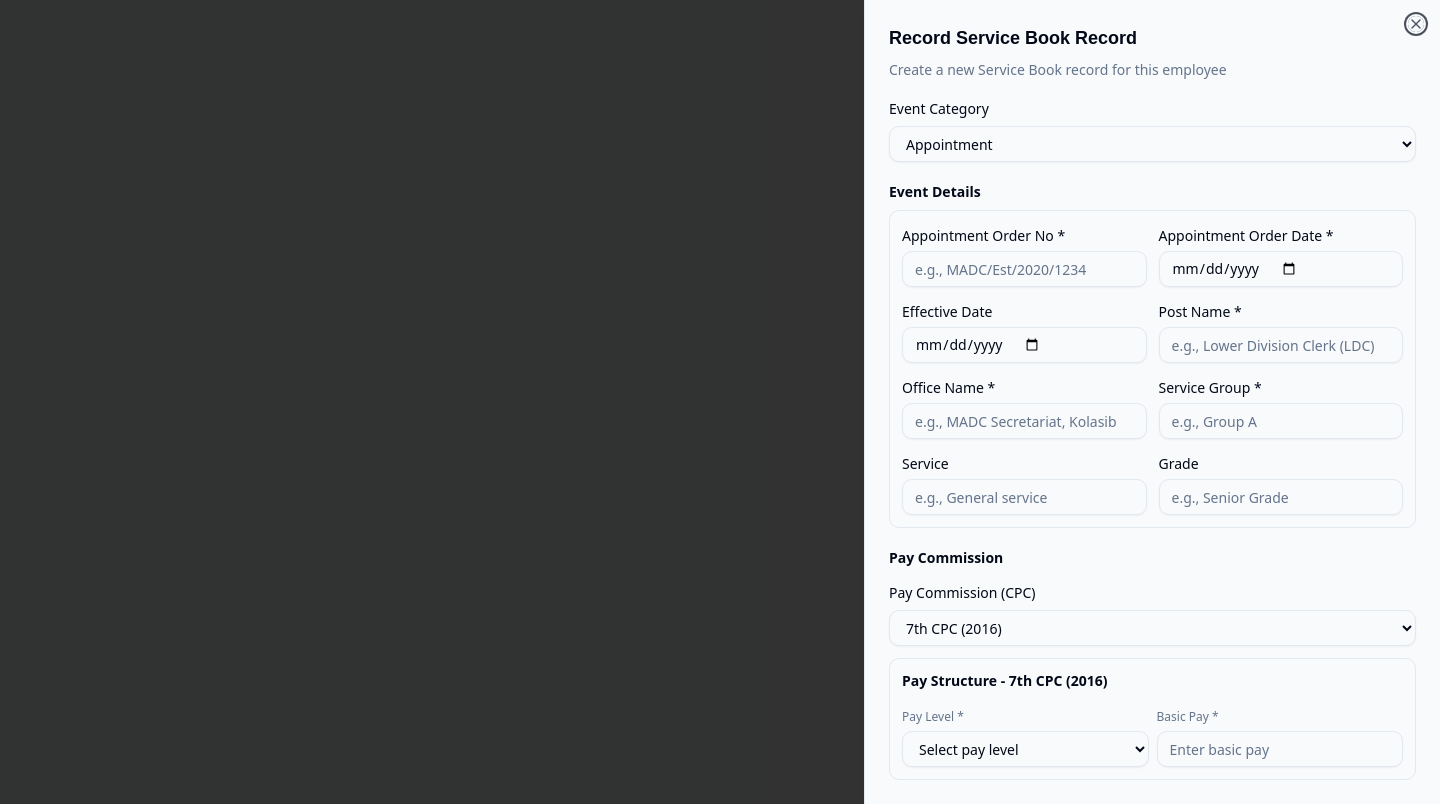
it: RecordServiceBookRecordDialog fallback mode › derives CPC fixation from basic pay from the latest recorded pay context
Select "CPC Pay Fixation" in the dropdown labelled "Event Category" at x=1152, y=144, box [889,126,1416,162]
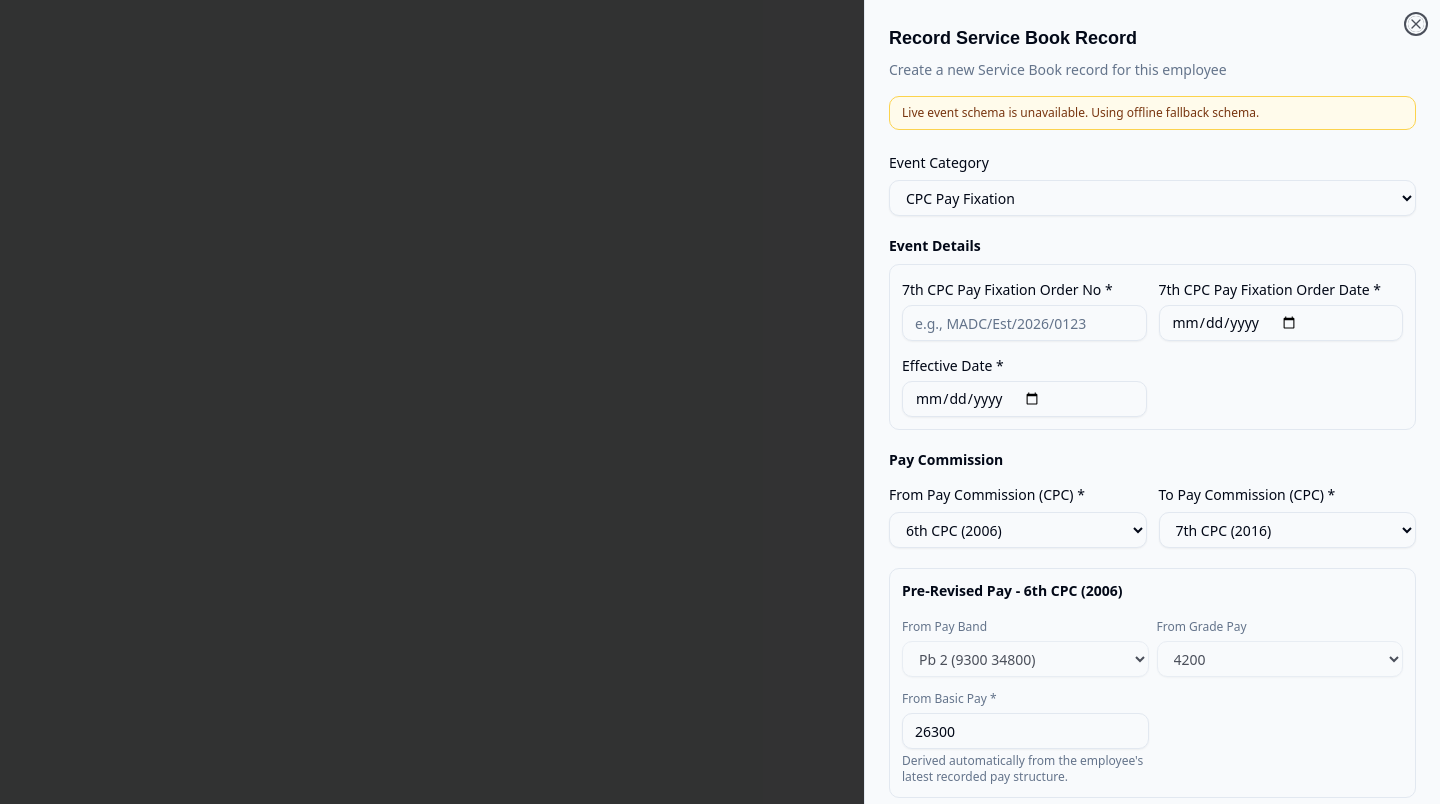
Now the number field labelled "From Basic Pay *" holds "26300", box [902,713,1148,749]
